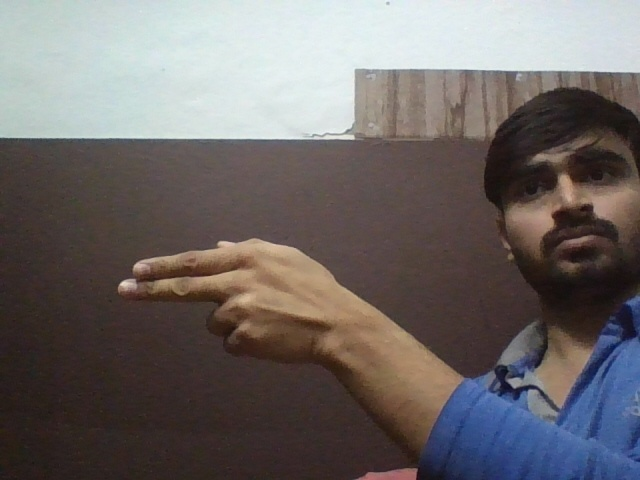H: (103, 234, 351, 376)
